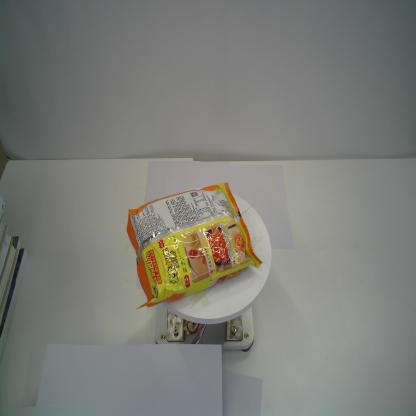Instant Noodles: (126, 181, 264, 311)
